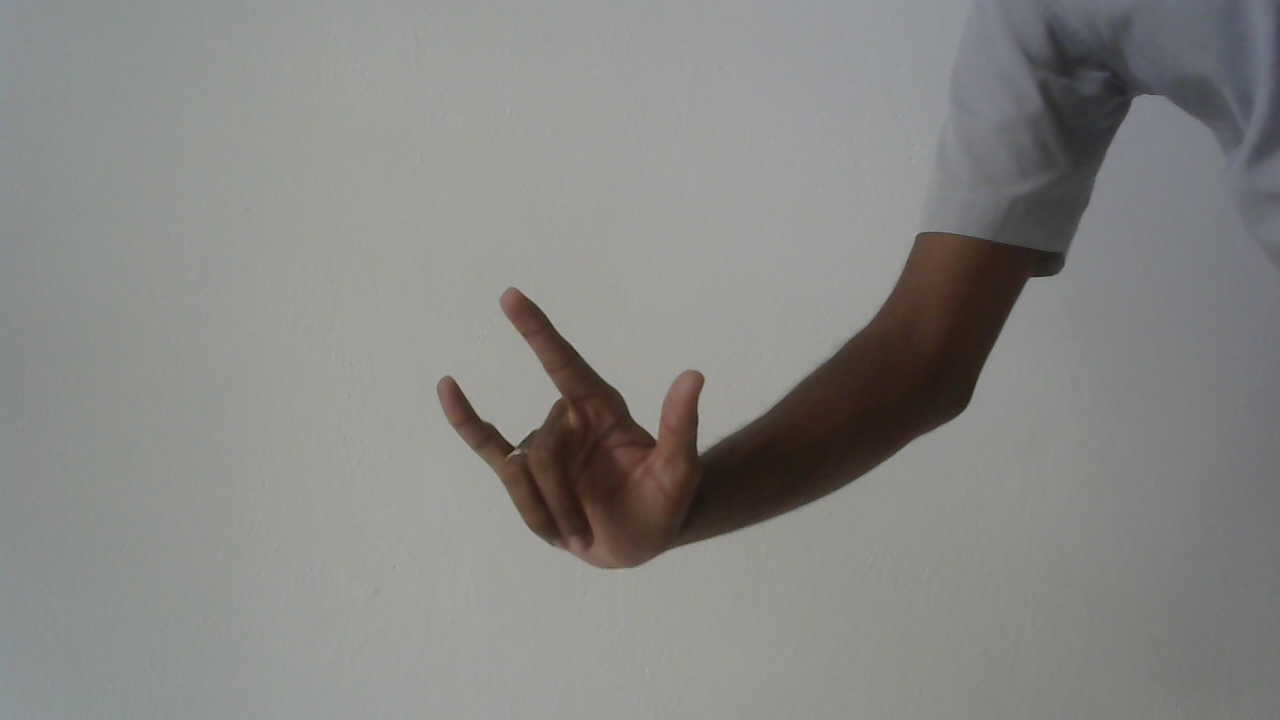iloveyou: (423, 277, 723, 577)
